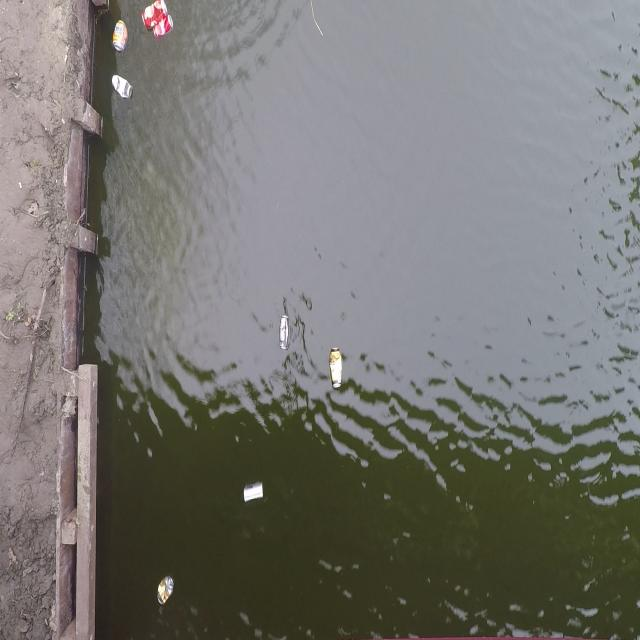Non plastique: (145, 6, 181, 52), (138, 0, 175, 37), (328, 340, 349, 397), (151, 574, 178, 614), (108, 14, 133, 56), (238, 480, 268, 513), (110, 71, 136, 109), (278, 310, 292, 356)
